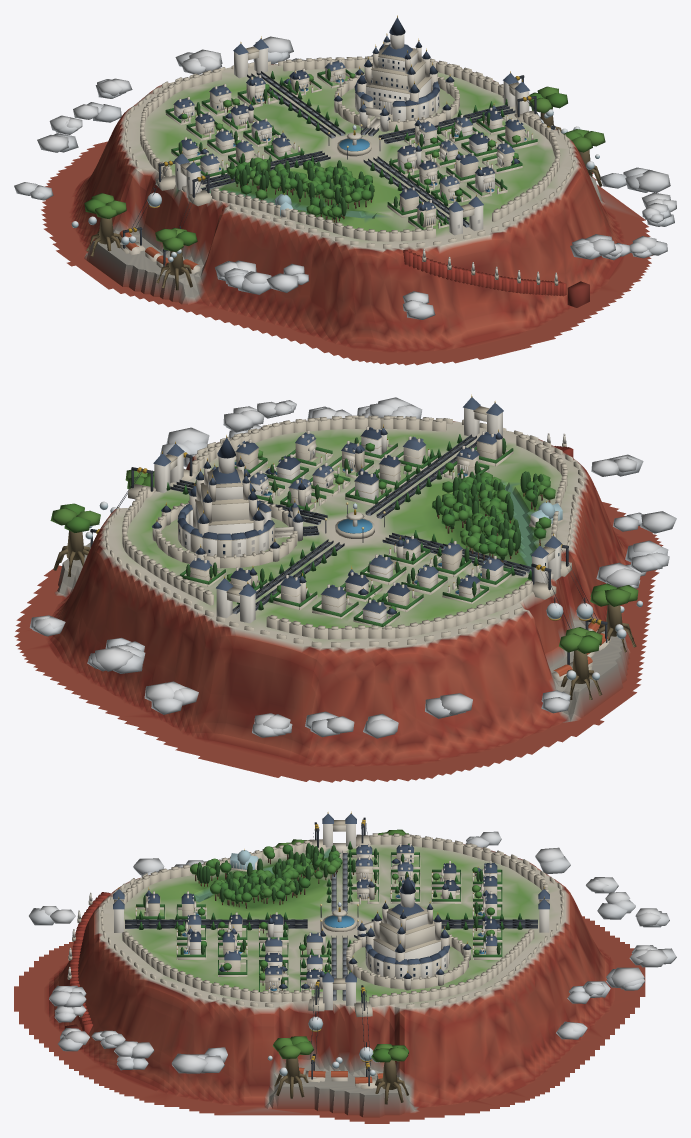
The picture shows the model from 3 angles, top to bottom: view 1: azimuth 30°, elevation 25°; view 2: azimuth 150°, elevation 25°; view 3: azimuth 270°, elevation 25°; orthographic projection. The views are drawn at different scales.
Visible parts, largest first — view 1: BASE, VILLE_2, VILLE_3; view 2: BASE, VILLE_2, VILLE_3; view 3: BASE, VILLE_2, VILLE_3.
Part boxes in pixels (x1,y1,x2,y2): BASE: [14, 15, 676, 365]; VILLE_2: [195, 68, 514, 211]; VILLE_3: [173, 59, 526, 227]; BASE: [14, 394, 676, 782]; VILLE_2: [212, 430, 503, 605]; VILLE_3: [189, 424, 502, 623]; BASE: [14, 811, 676, 1123]; VILLE_2: [181, 844, 497, 990]; VILLE_3: [144, 843, 501, 991].
Size of the model in its own units: 57.77 by 18.63 by 66.18.
